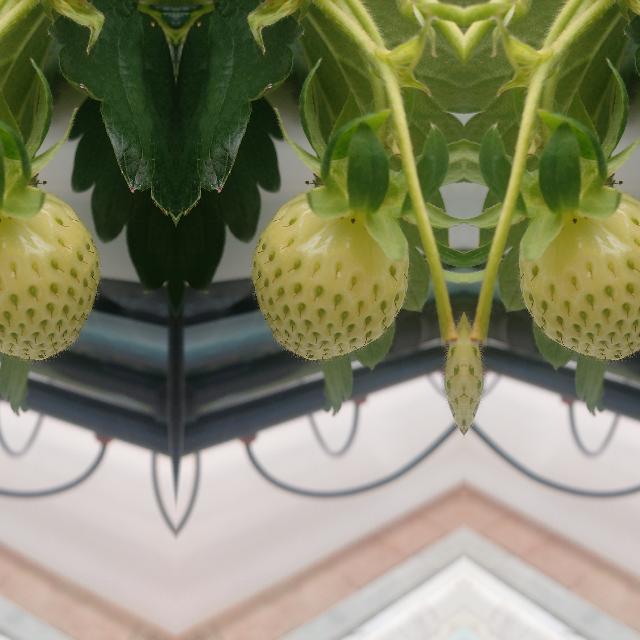Health_25: (252, 192, 408, 360), (517, 192, 640, 359), (0, 192, 98, 359)
